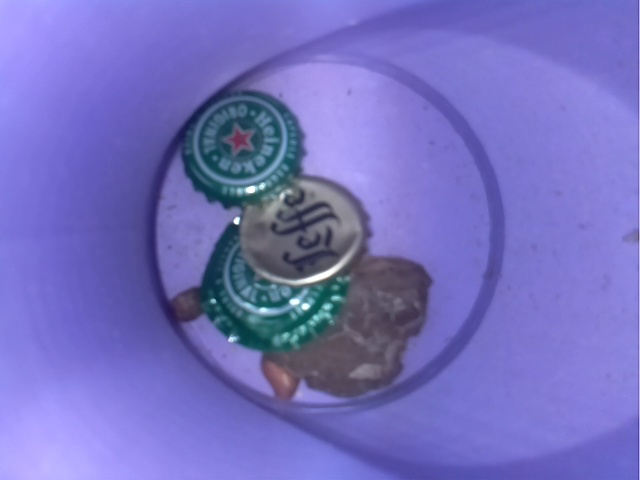capsule: (181, 214, 360, 348), (162, 86, 319, 210), (231, 169, 370, 284)
croquette: (249, 353, 309, 401), (166, 278, 216, 331)
ecorce: (268, 254, 437, 432)
